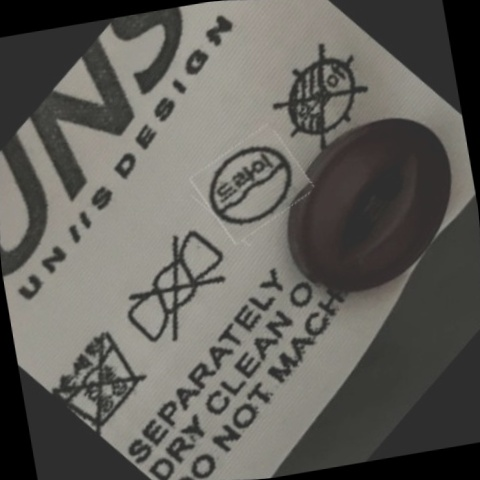DN_dry: (261, 37, 381, 158)
DN_wring: (109, 222, 244, 358)
dry_clean: (198, 130, 306, 241)
hand_wash: (44, 314, 159, 437)
